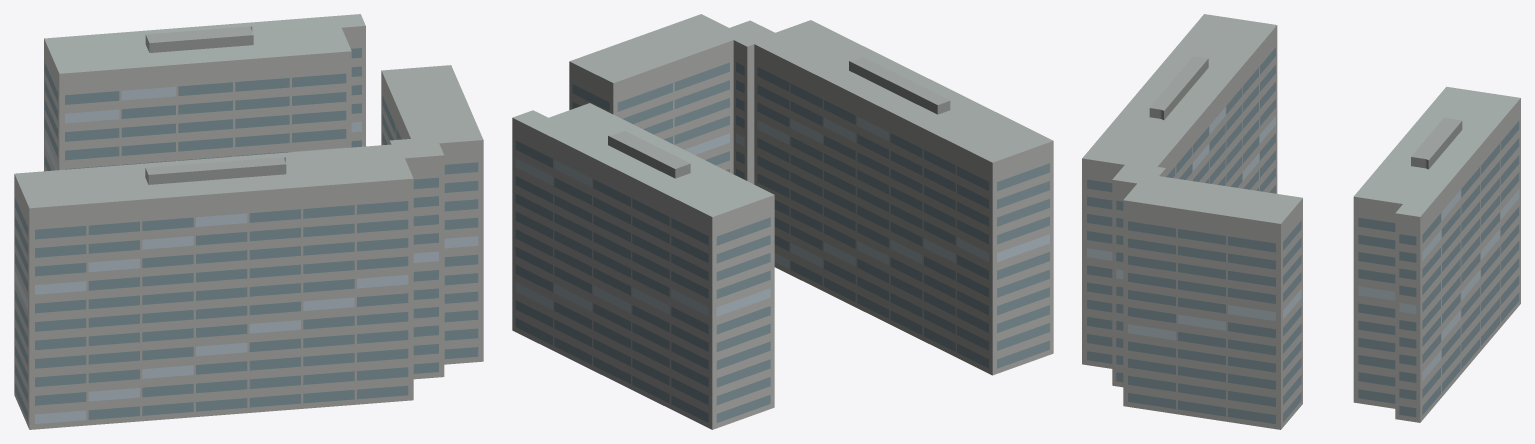
The model's file is apt-a13406201.glb.
The picture shows the model from 3 angles, left to right: view 1: azimuth 30°, elevation 25°; view 2: azimuth 150°, elevation 25°; view 3: azimuth 270°, elevation 25°; orthographic projection. The views are drawn at different scales.
Visible parts, largest first — view 1: apt-a13406201; view 2: apt-a13406201; view 3: apt-a13406201.
Boxes of the visible parts, bbox=[...] form: apt-a13406201: bbox=[14, 14, 483, 429]; apt-a13406201: bbox=[512, 14, 1053, 429]; apt-a13406201: bbox=[1082, 14, 1520, 429].
Bounding box in the file's own units: 80.03 × 38.25 × 70.67.
